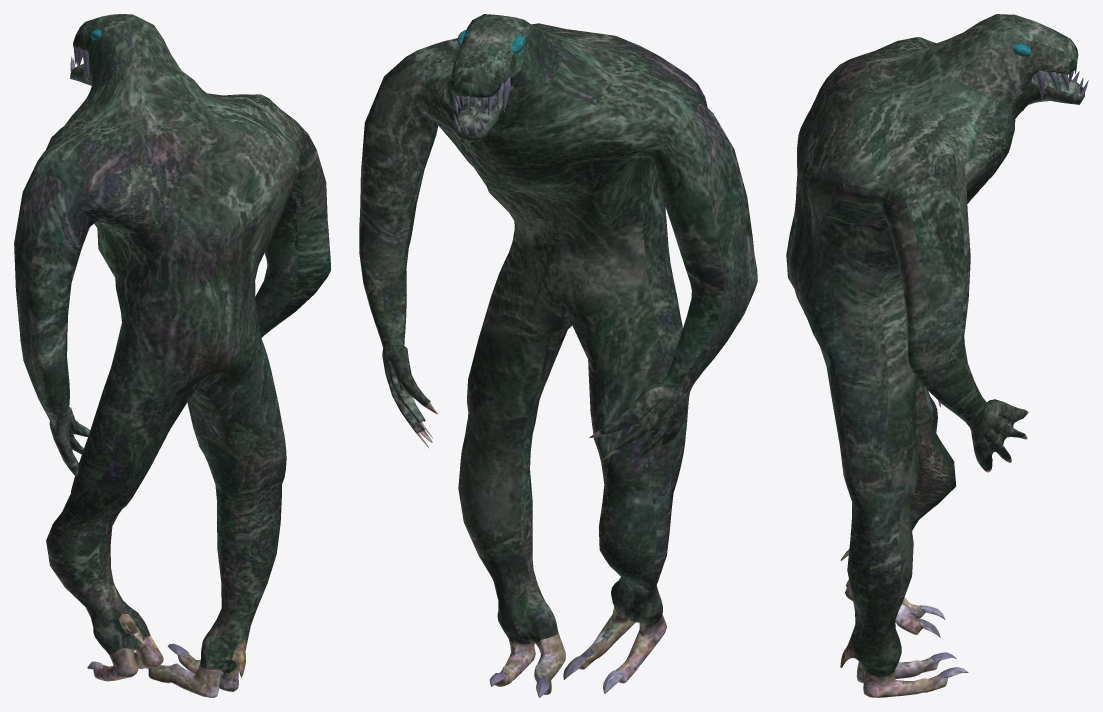
Rendered from Andar.0014.obj.
The picture shows the model from 3 angles, left to right: view 1: azimuth 30°, elevation 25°; view 2: azimuth 150°, elevation 25°; view 3: azimuth 270°, elevation 25°; orthographic projection. The views are drawn at different scales.
Parts seen in each view (by area): view 1: polySurface28; view 2: polySurface28; view 3: polySurface28.
Part boxes in pixels (x1,y1,x2,y2): polySurface28: [14, 14, 330, 697]; polySurface28: [359, 14, 757, 697]; polySurface28: [786, 14, 1088, 697].
Bounding box in the file's own units: 1.23 × 2.32 × 0.9687.
Materials: 4 (4 with a texture image).
